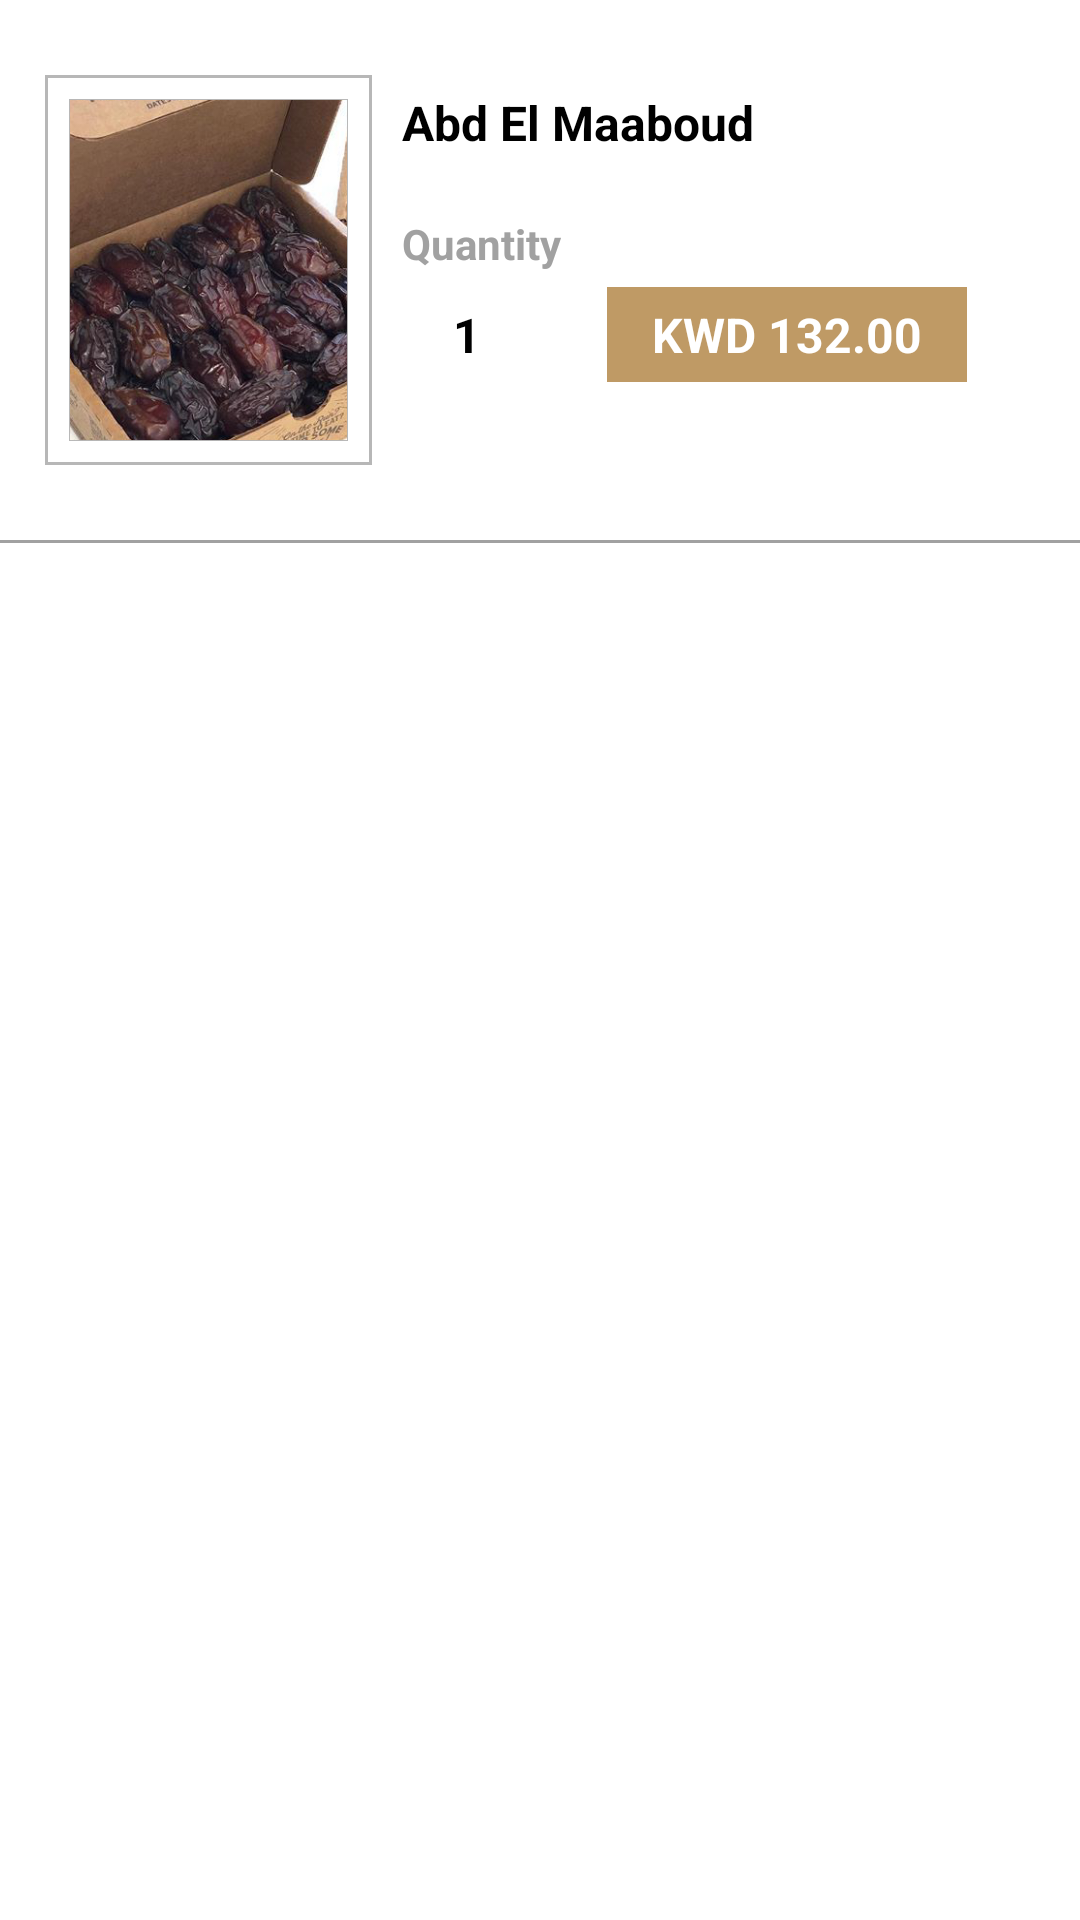

Locate icon controls on the screen. Image size 1080w x 1920h, boxes as (x1, y1, x2, y2).
date: (69, 99, 348, 441)
